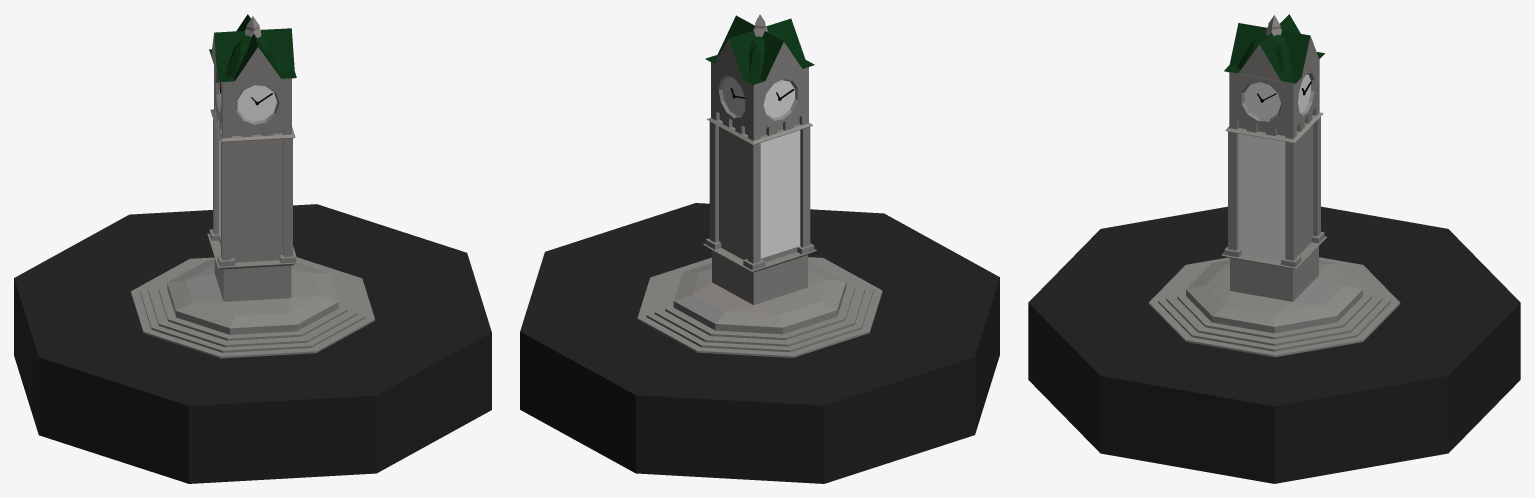
Rendered from clock.glb.
3 renders of one model, left to right at view 1: azimuth 30°, elevation 25°; view 2: azimuth 150°, elevation 25°; view 3: azimuth 270°, elevation 25°, orthographic.
Parts seen in each view (by area): view 1: struct; view 2: struct; view 3: struct.
Boxes of the visible parts, left/top/right/bottom form: struct: left=14, top=14, right=491, bottom=483; struct: left=520, top=14, right=999, bottom=483; struct: left=1028, top=14, right=1520, bottom=483.
Bounding box in the file's own units: 208 × 170 × 208.
